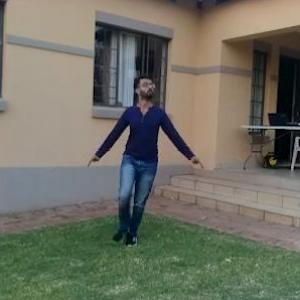land: (101, 87, 188, 226)
